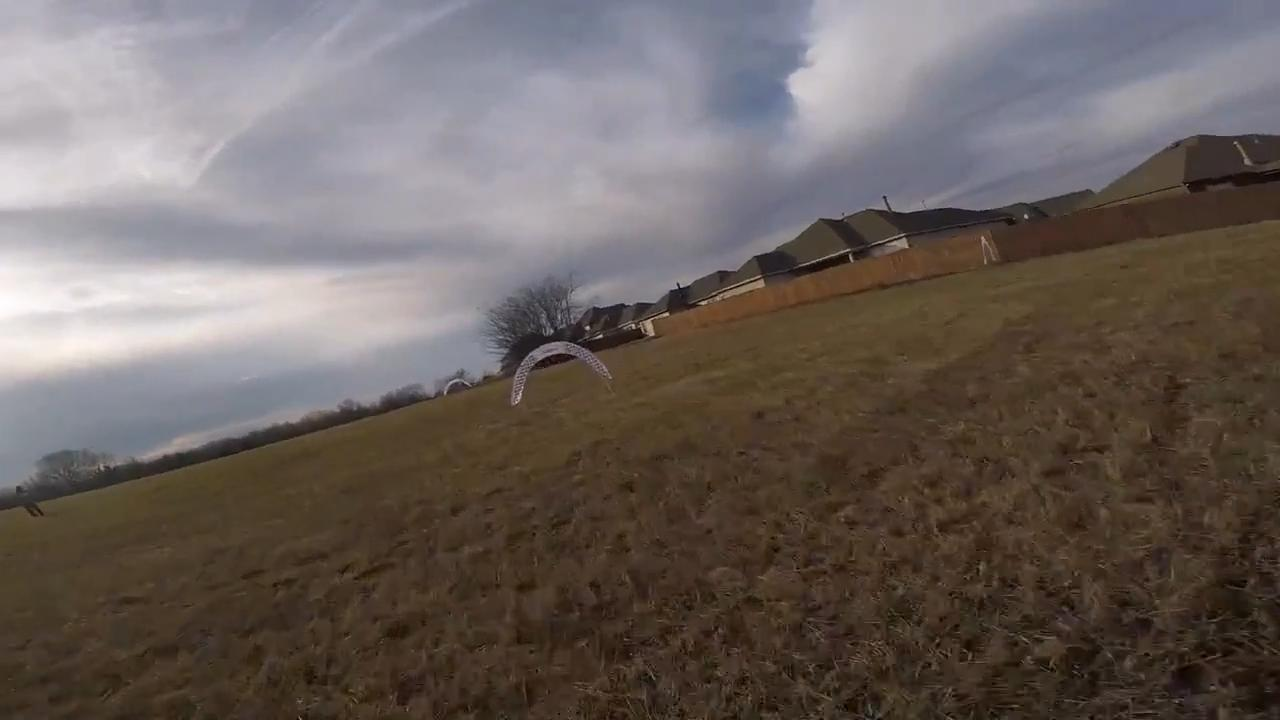gate: (506, 338, 614, 409)
